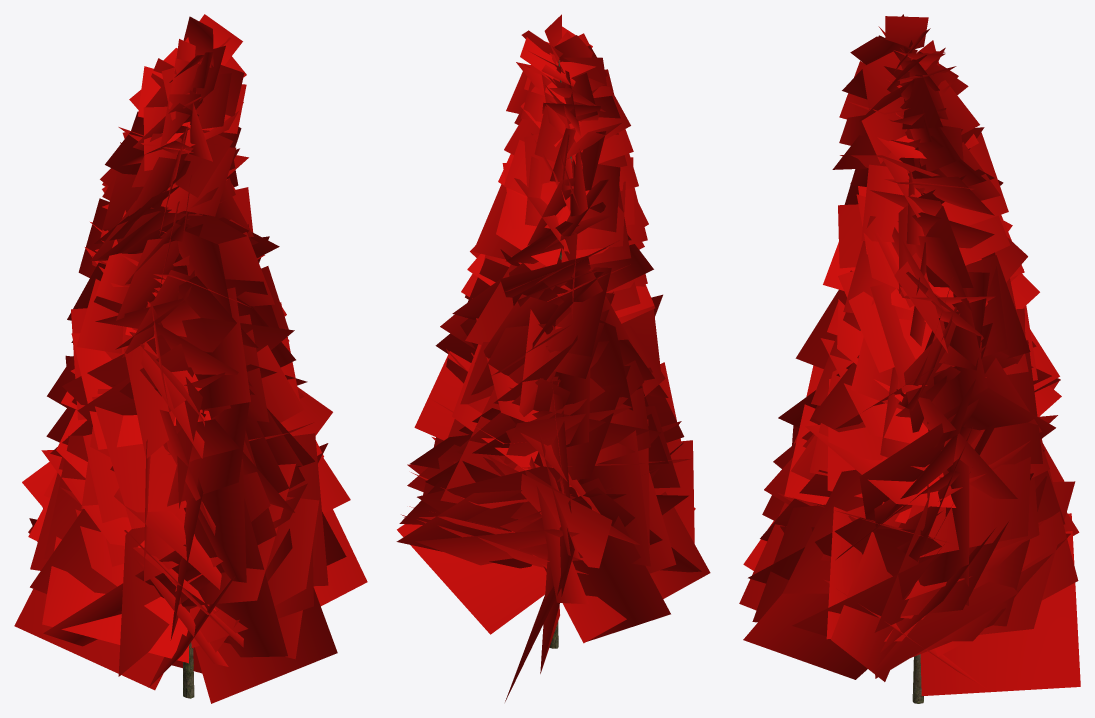
The model's file is tree.fbx.
3 views of the same model, side by side, from view 1: azimuth 30°, elevation 25°; view 2: azimuth 150°, elevation 25°; view 3: azimuth 270°, elevation 25° (orthographic). The views are drawn at different scales.
Parts seen in each view (by area): view 1: Tree-1; view 2: Tree-1; view 3: Tree-1.
Part boxes in pixels (x1,y1,x2,y2): Tree-1: (14,14,367,703); Tree-1: (396,14,710,701); Tree-1: (739,14,1080,703).
Bounding box in the file's own units: 7.11 × 14.77 × 6.63.
